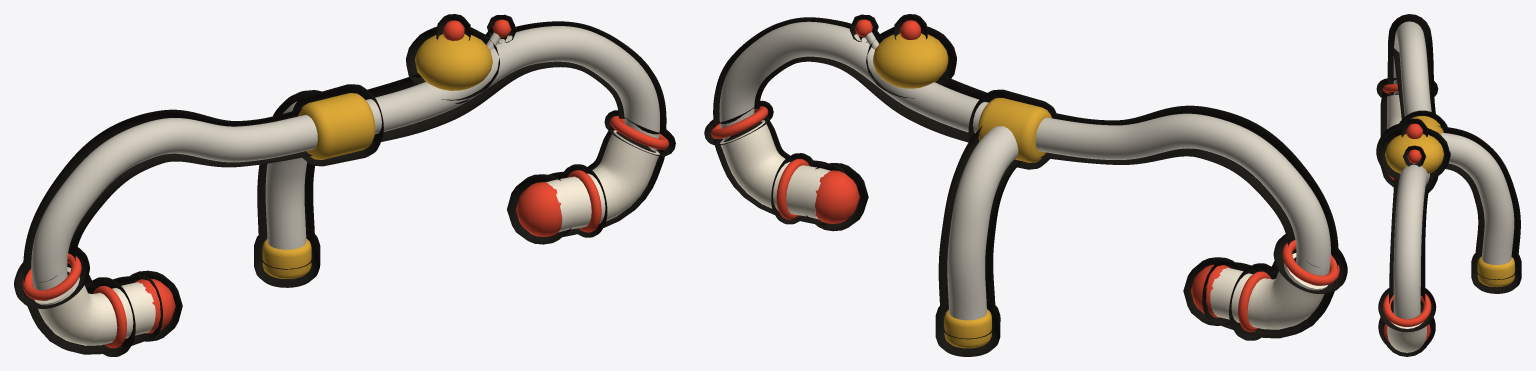
Rendered from handlebars.glb.
3 views of the same model, side by side, from view 1: azimuth 30°, elevation 25°; view 2: azimuth 150°, elevation 25°; view 3: azimuth 270°, elevation 25° (orthographic). The views are drawn at different scales.
Visible parts, largest first — view 1: Handlebars, Handlebars_outline; view 2: Handlebars, Handlebars_outline; view 3: Handlebars, Handlebars_outline.
Part boxes in pixels (left/top/right/bottom): Handlebars: left=22, top=19, right=668, bottom=348; Handlebars_outline: left=14, top=14, right=675, bottom=356; Handlebars: left=711, top=19, right=1339, bottom=348; Handlebars_outline: left=704, top=14, right=1347, bottom=356; Handlebars: left=1383, top=21, right=1514, bottom=352; Handlebars_outline: left=1376, top=14, right=1521, bottom=356.
Size of the model in its own units: 2.3 by 0.9327 by 0.5872.
